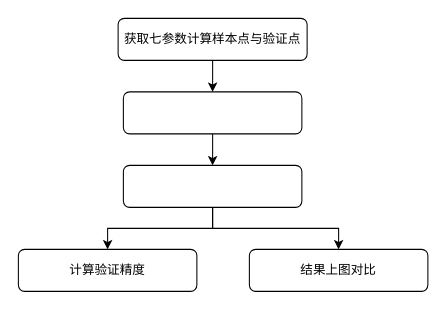
Some shapes in this 446 by 310 pixel diagram are drawn without their labels. Here are the shapes that lost their labels. From the top down, the box of each, then its label:
(122, 91, 302, 134): 利用最小二乘法估计七参数
(122, 164, 302, 207): 利用七参数结果转换验证点
